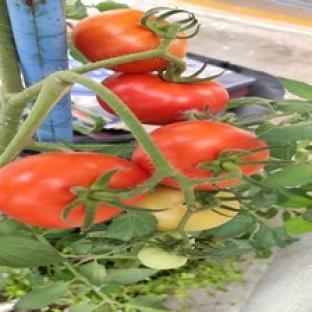Tomato: (0, 152, 146, 228), (151, 120, 268, 190), (102, 73, 228, 125), (72, 9, 162, 61), (140, 186, 188, 231), (138, 246, 188, 270)
